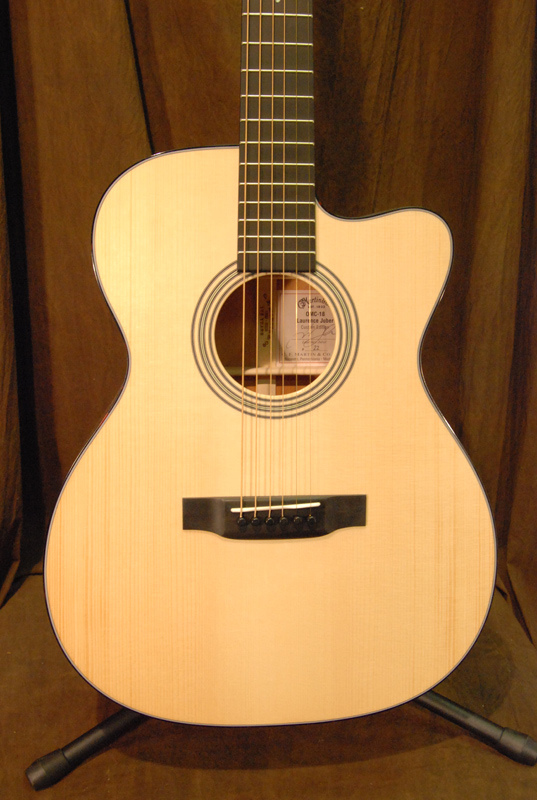guitar: (42, 1, 495, 734)
